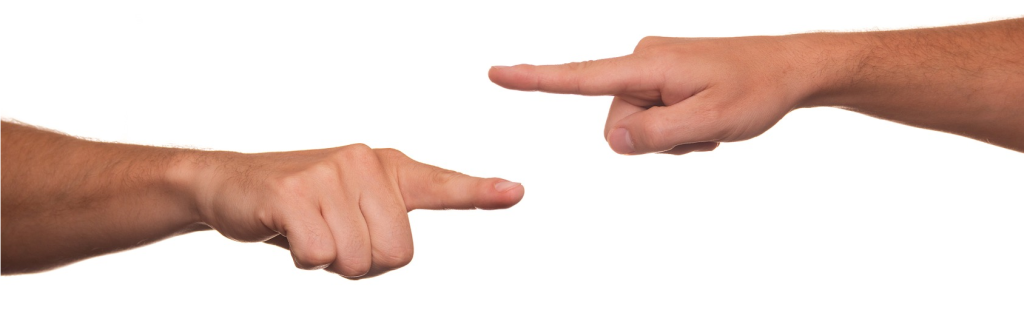pointing_gesture: (194, 147, 526, 284), (488, 33, 856, 156)
